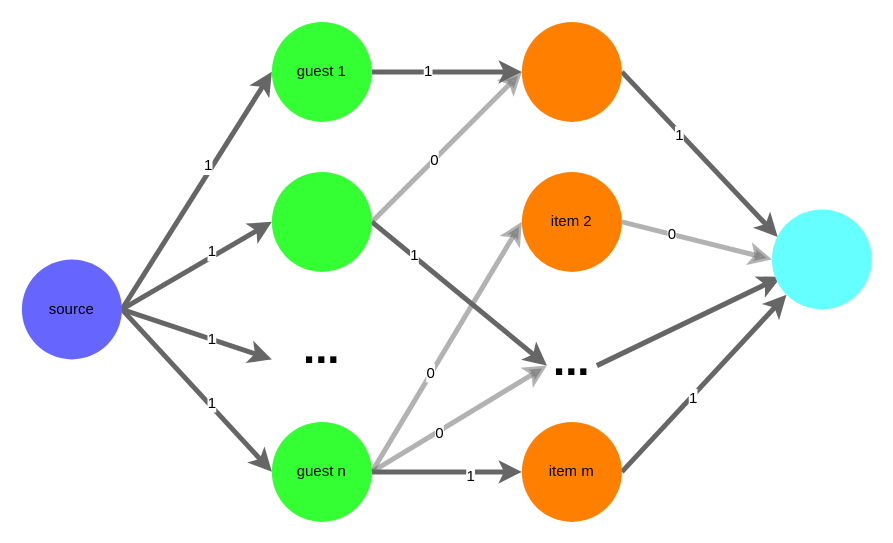
Some shapes in this 893 by 543 pixel diagram are drawn without their labels. The centre of each missing label's shape, as x and y in pixels:
guest 2: (321,221)
item 1: (571,71)
sink: (821,259)
